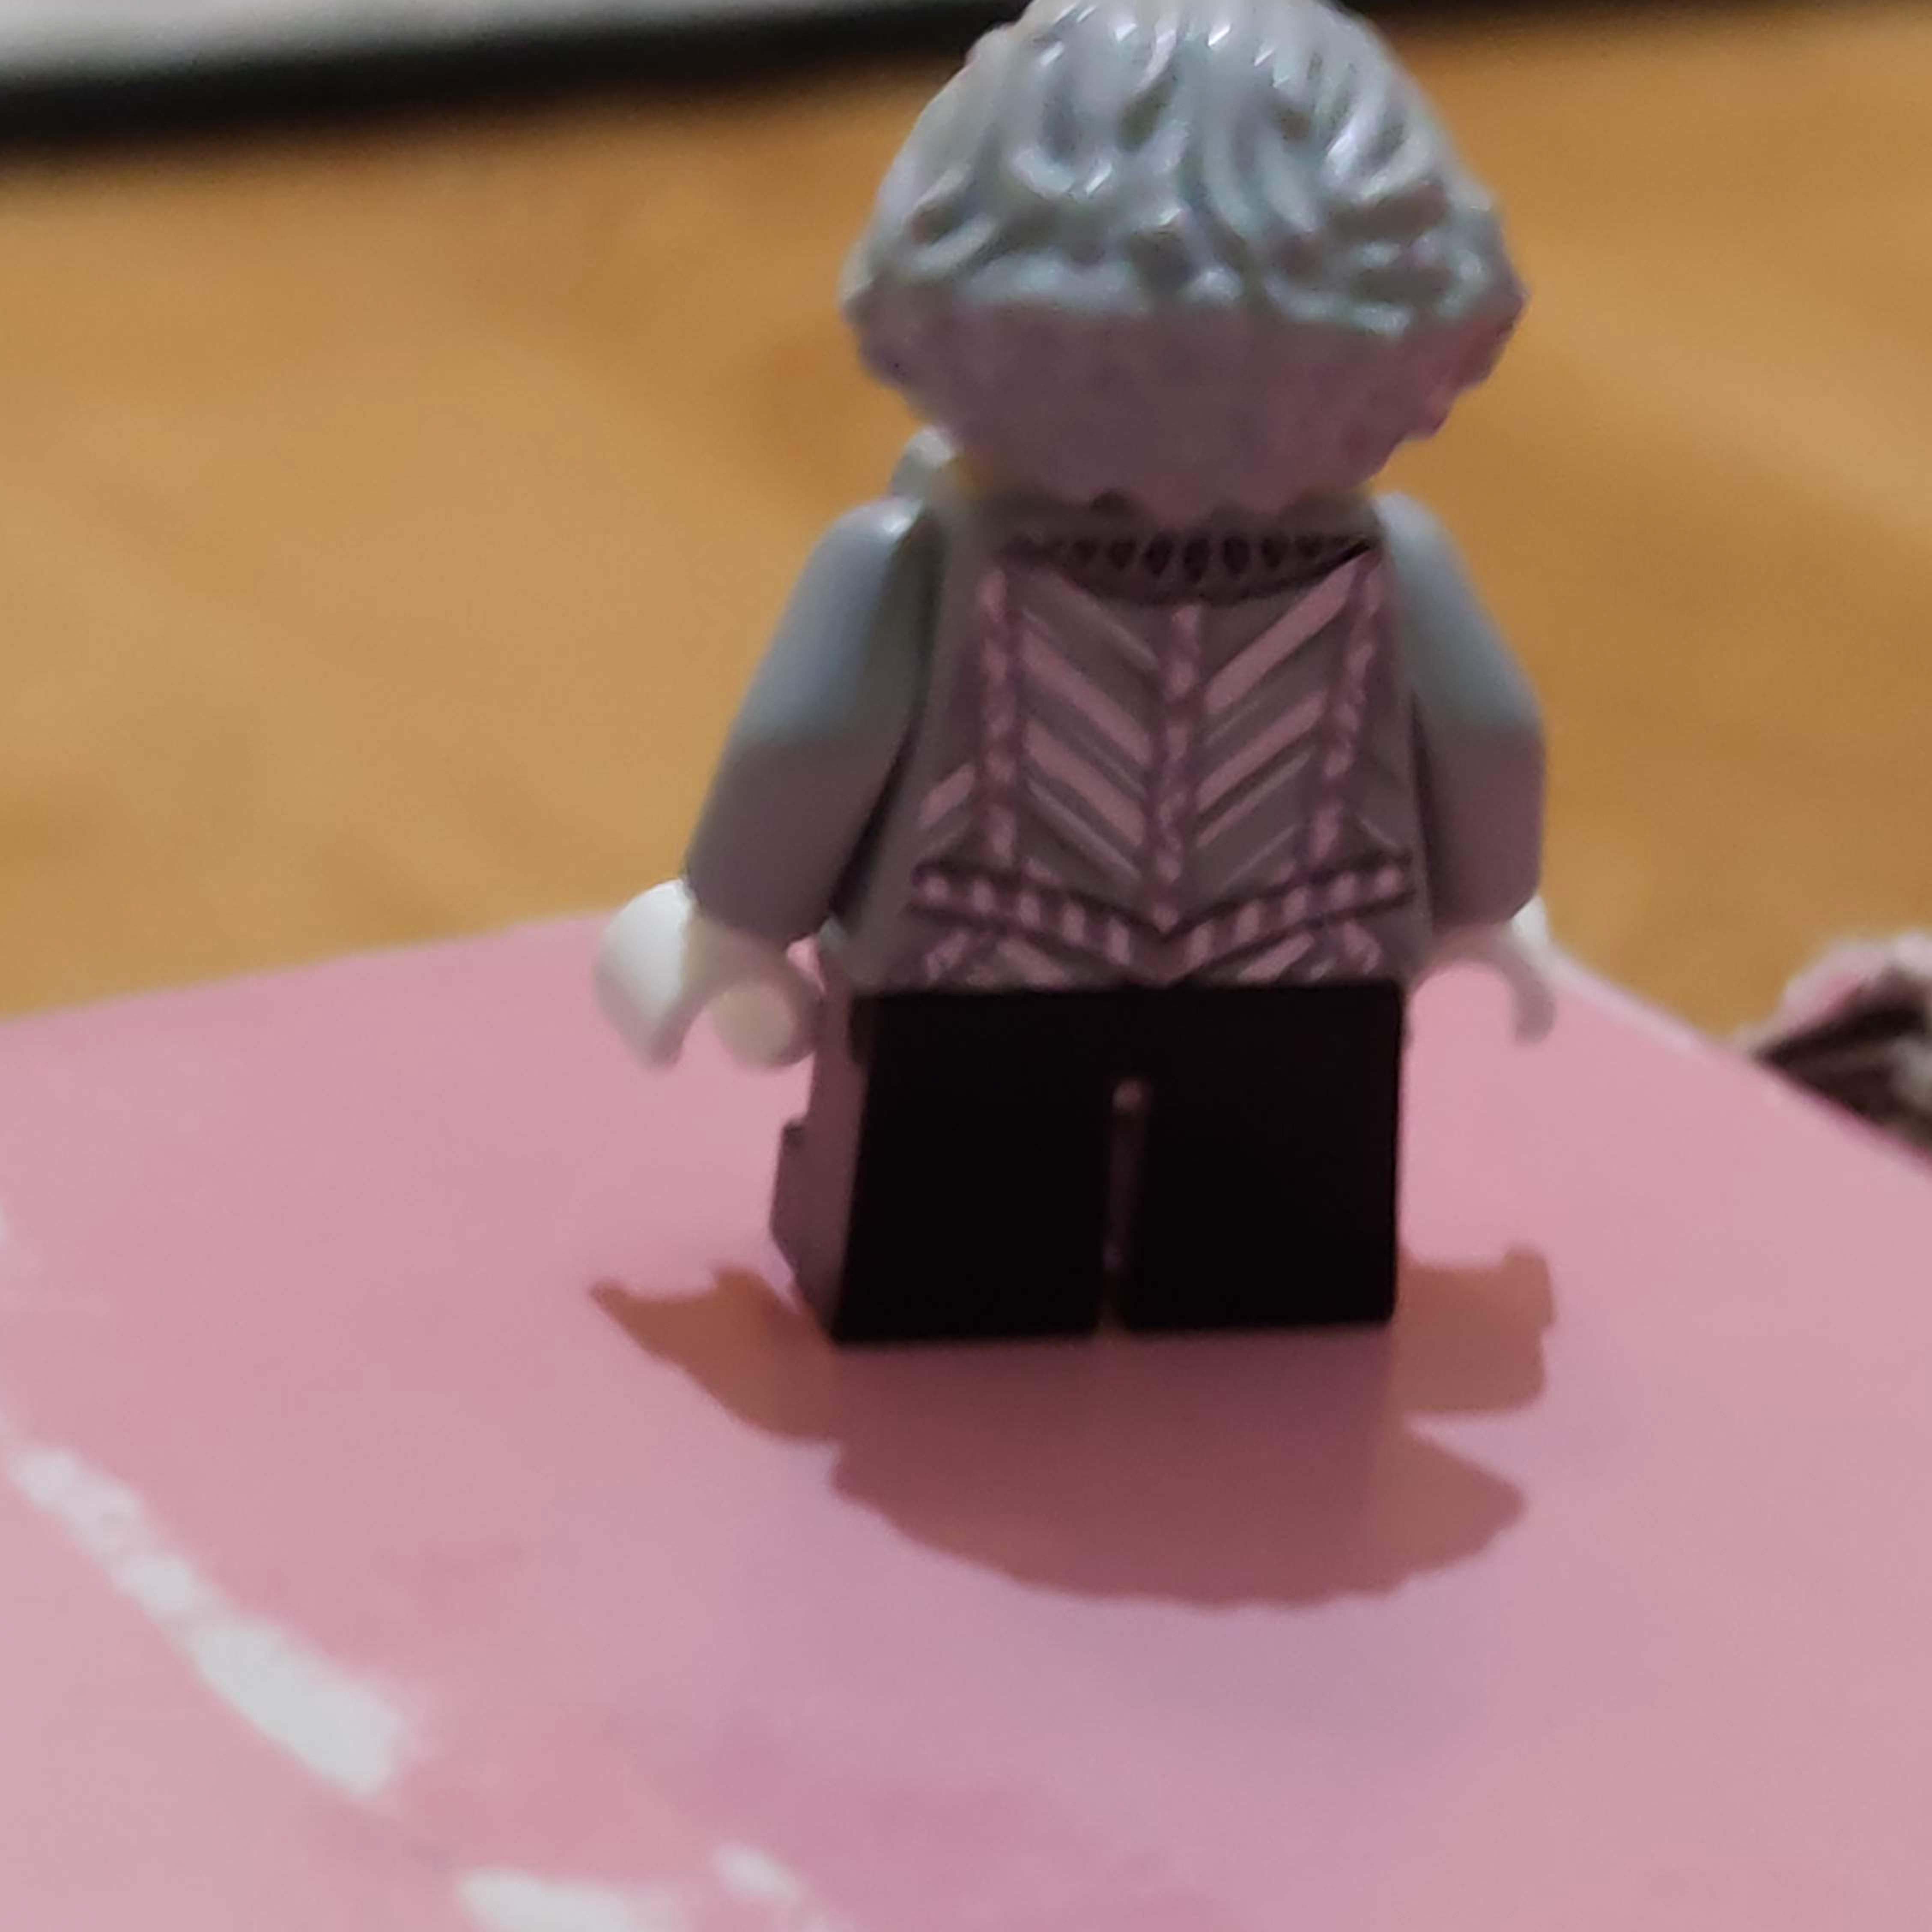lego: (591, 0, 1557, 1359)
